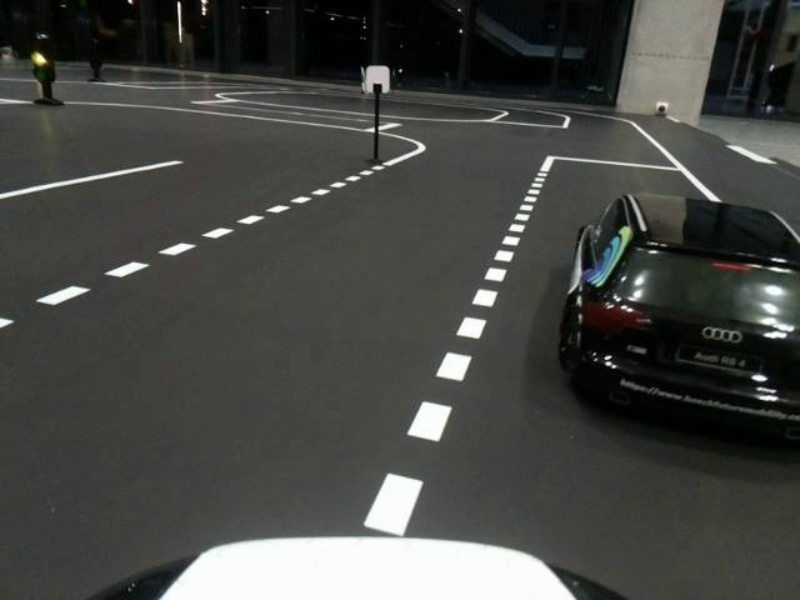car: (559, 184, 800, 449)
